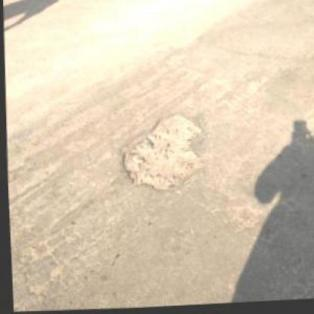Hueco: (116, 113, 204, 196)
